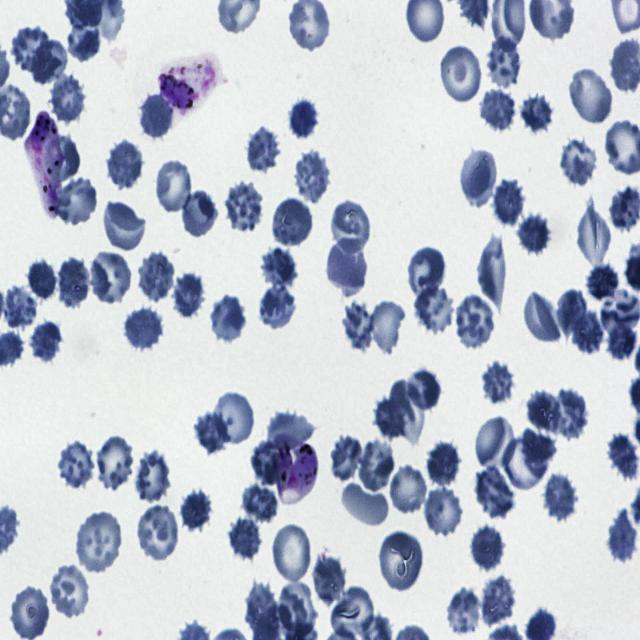difficult: (277, 442, 320, 505)
red blood cell: (74, 510, 125, 573), (378, 529, 424, 594), (568, 64, 615, 125), (439, 43, 483, 107), (87, 248, 133, 307), (326, 236, 370, 297), (136, 504, 182, 562), (271, 522, 314, 584), (211, 388, 256, 447), (93, 434, 138, 492), (576, 195, 612, 267), (100, 198, 146, 254), (503, 436, 548, 491), (476, 233, 506, 314), (390, 379, 426, 446), (329, 199, 372, 255), (152, 157, 194, 214), (474, 415, 516, 472), (46, 564, 90, 618), (412, 281, 456, 335), (266, 410, 315, 458), (278, 580, 317, 639), (522, 289, 563, 345), (459, 148, 498, 206), (475, 464, 516, 519), (367, 298, 407, 354), (454, 293, 494, 349), (224, 180, 267, 232), (423, 485, 465, 538), (355, 439, 395, 494), (340, 482, 390, 526), (272, 198, 314, 250), (331, 585, 373, 637), (407, 244, 448, 297), (292, 150, 332, 204), (54, 256, 91, 314), (134, 448, 173, 503), (258, 280, 300, 331), (28, 36, 69, 88), (104, 138, 144, 191), (8, 26, 52, 74), (310, 554, 348, 609), (244, 124, 284, 176), (10, 586, 48, 640), (167, 268, 208, 318), (124, 303, 164, 354), (444, 587, 484, 638), (56, 178, 98, 226), (338, 300, 376, 353), (136, 247, 174, 299), (250, 439, 292, 486), (390, 466, 430, 515), (180, 190, 219, 240), (478, 577, 518, 625), (470, 522, 506, 575), (555, 388, 590, 442), (329, 434, 366, 485), (478, 86, 518, 133), (559, 138, 598, 186), (48, 74, 86, 122), (486, 35, 521, 87), (210, 294, 247, 343), (57, 440, 94, 489), (406, 365, 444, 412), (136, 89, 172, 138), (225, 515, 262, 562), (24, 257, 60, 305), (260, 244, 299, 288), (526, 388, 561, 437), (607, 507, 638, 562), (3, 284, 38, 332), (26, 320, 64, 364), (192, 409, 229, 454), (372, 394, 408, 440), (571, 308, 606, 355), (608, 431, 639, 484), (240, 483, 280, 524), (543, 473, 577, 521), (177, 488, 213, 533), (287, 95, 323, 140), (517, 209, 552, 254), (556, 288, 588, 337), (521, 424, 558, 466), (49, 133, 82, 180), (480, 358, 514, 403), (68, 19, 102, 63), (429, 440, 460, 487), (518, 92, 555, 130), (494, 178, 524, 224), (606, 322, 638, 364), (588, 264, 620, 301)
trophozoite: (24, 110, 64, 217), (158, 53, 221, 114)
